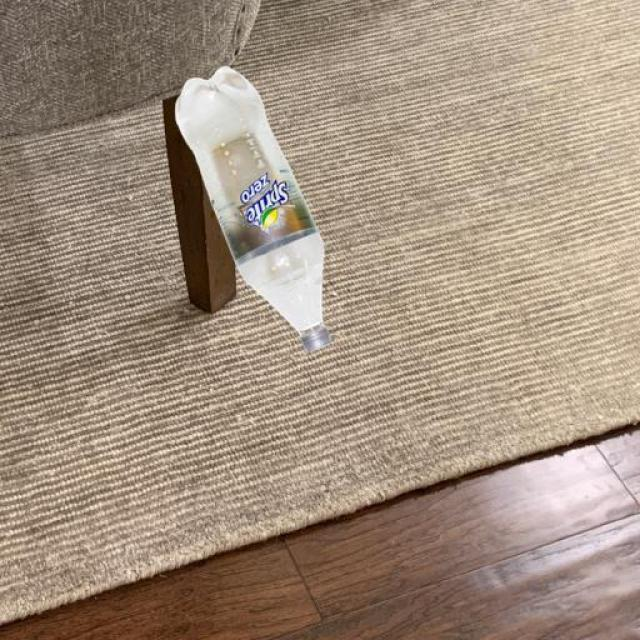bottle: (171, 64, 331, 352)
